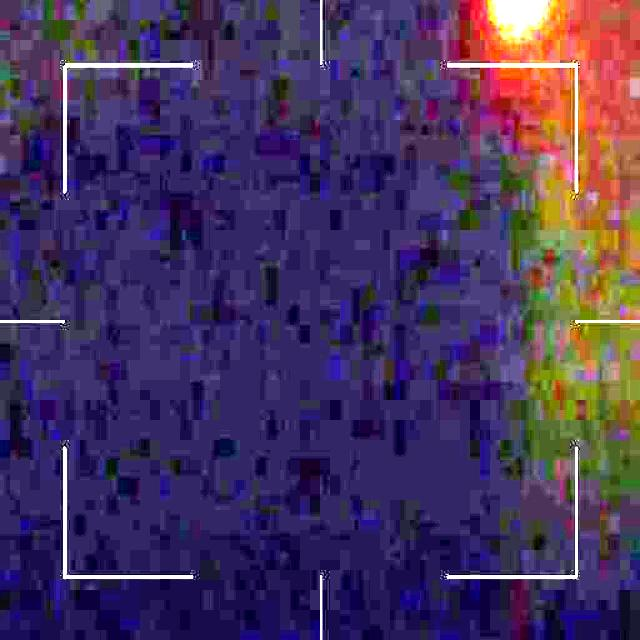bird: (491, 0, 550, 25)
